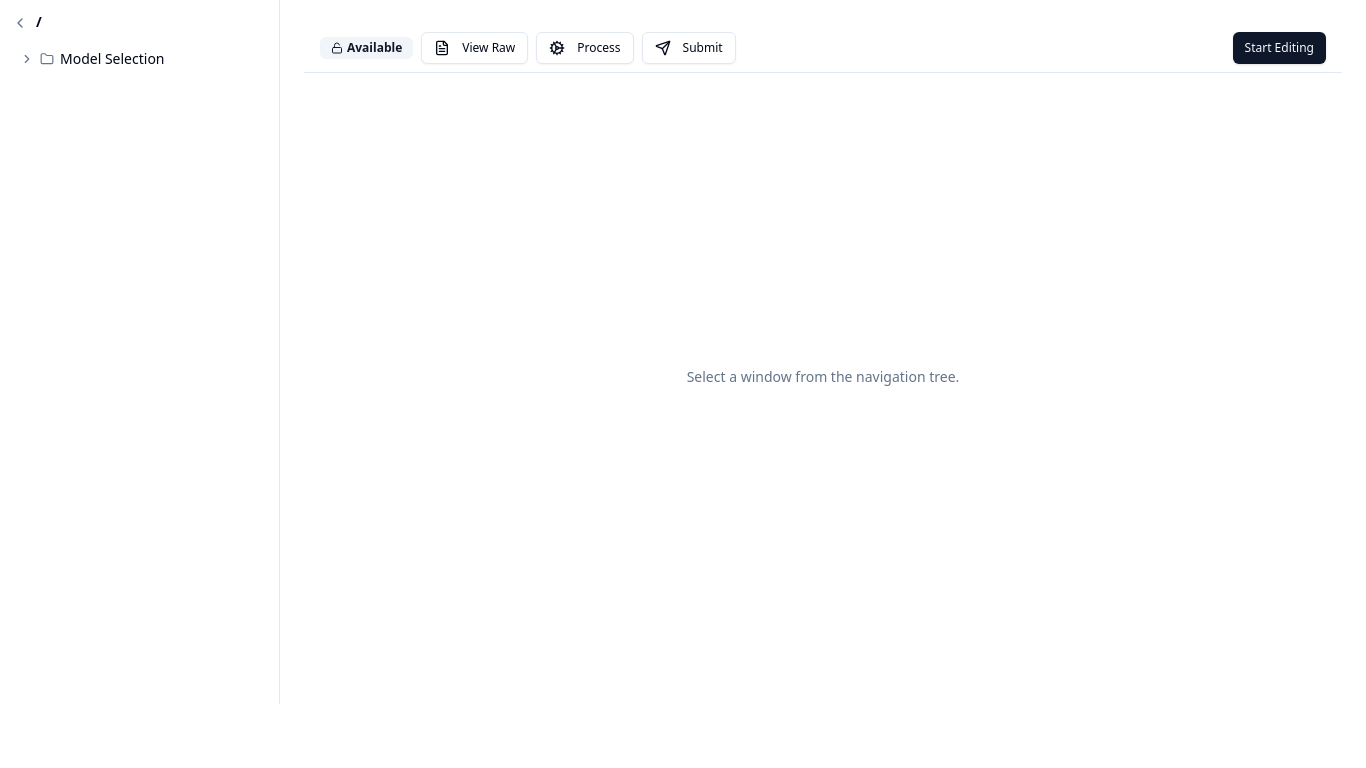
it: BridgePage › selects window and shows content
This screenshot has width=1366, height=768.
Expected: the text "Model Selection" is shown, [60,49,164,69]
// Expand tree
Click the button "Model Selection" at x=140, y=59, box [12,45,267,73]
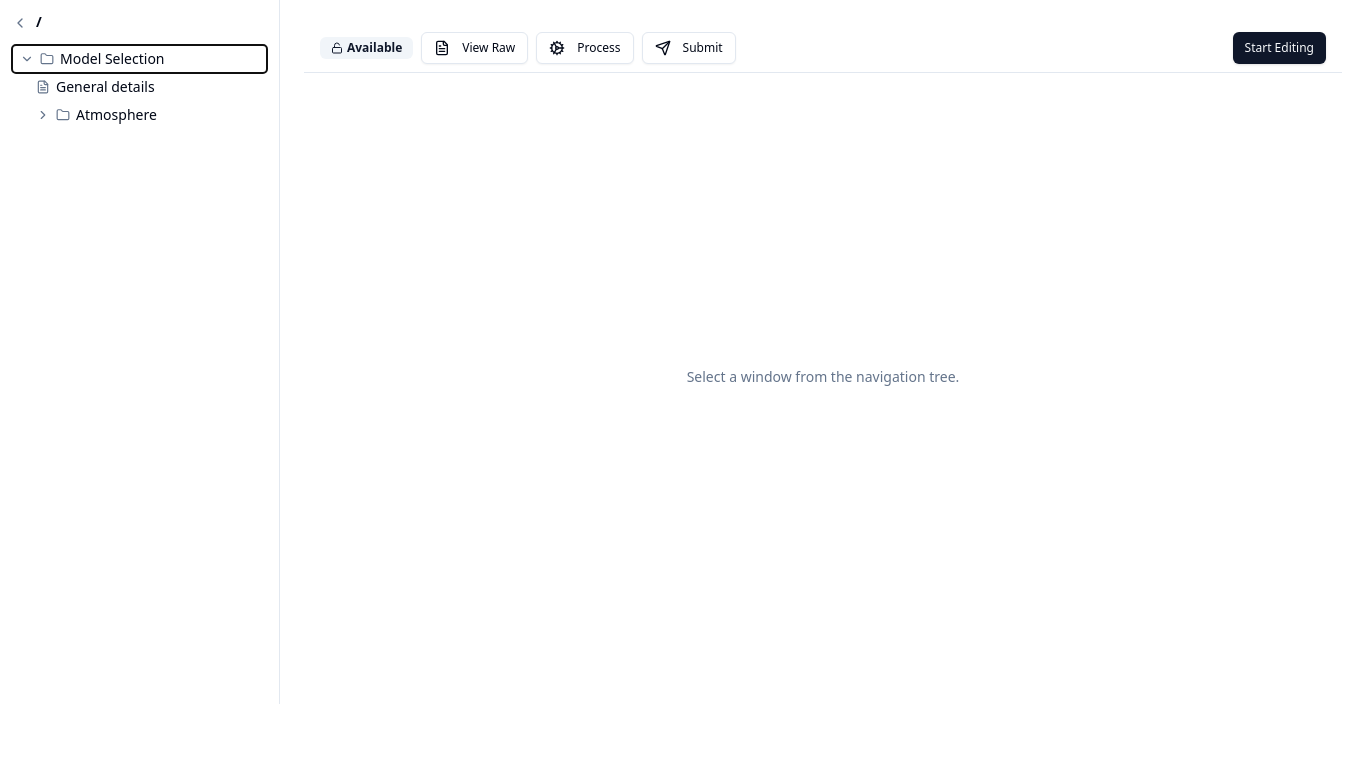
// Select leaf
Click the button "General details" at x=140, y=87, box [12,73,267,101]
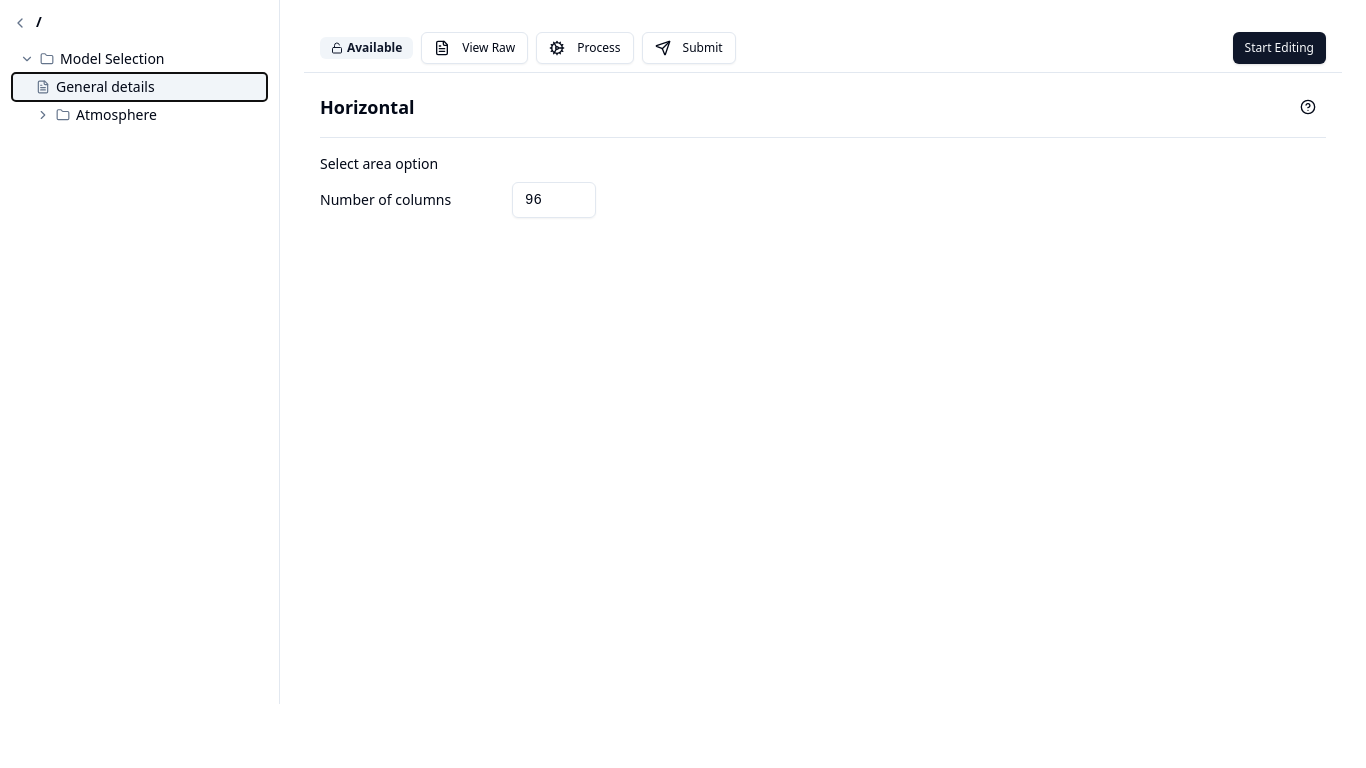
Expected: the heading "Horizontal" is shown, [320,93,414,121]
